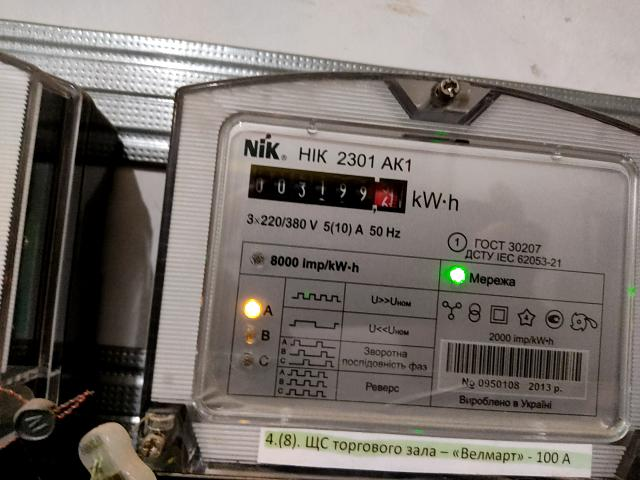0: (253, 175, 266, 194), (276, 176, 287, 195)
1: (318, 177, 327, 196)
3: (297, 180, 306, 199)
6: (380, 194, 390, 210)
9: (358, 185, 368, 203), (338, 181, 347, 199)
screen: (242, 160, 415, 221)
